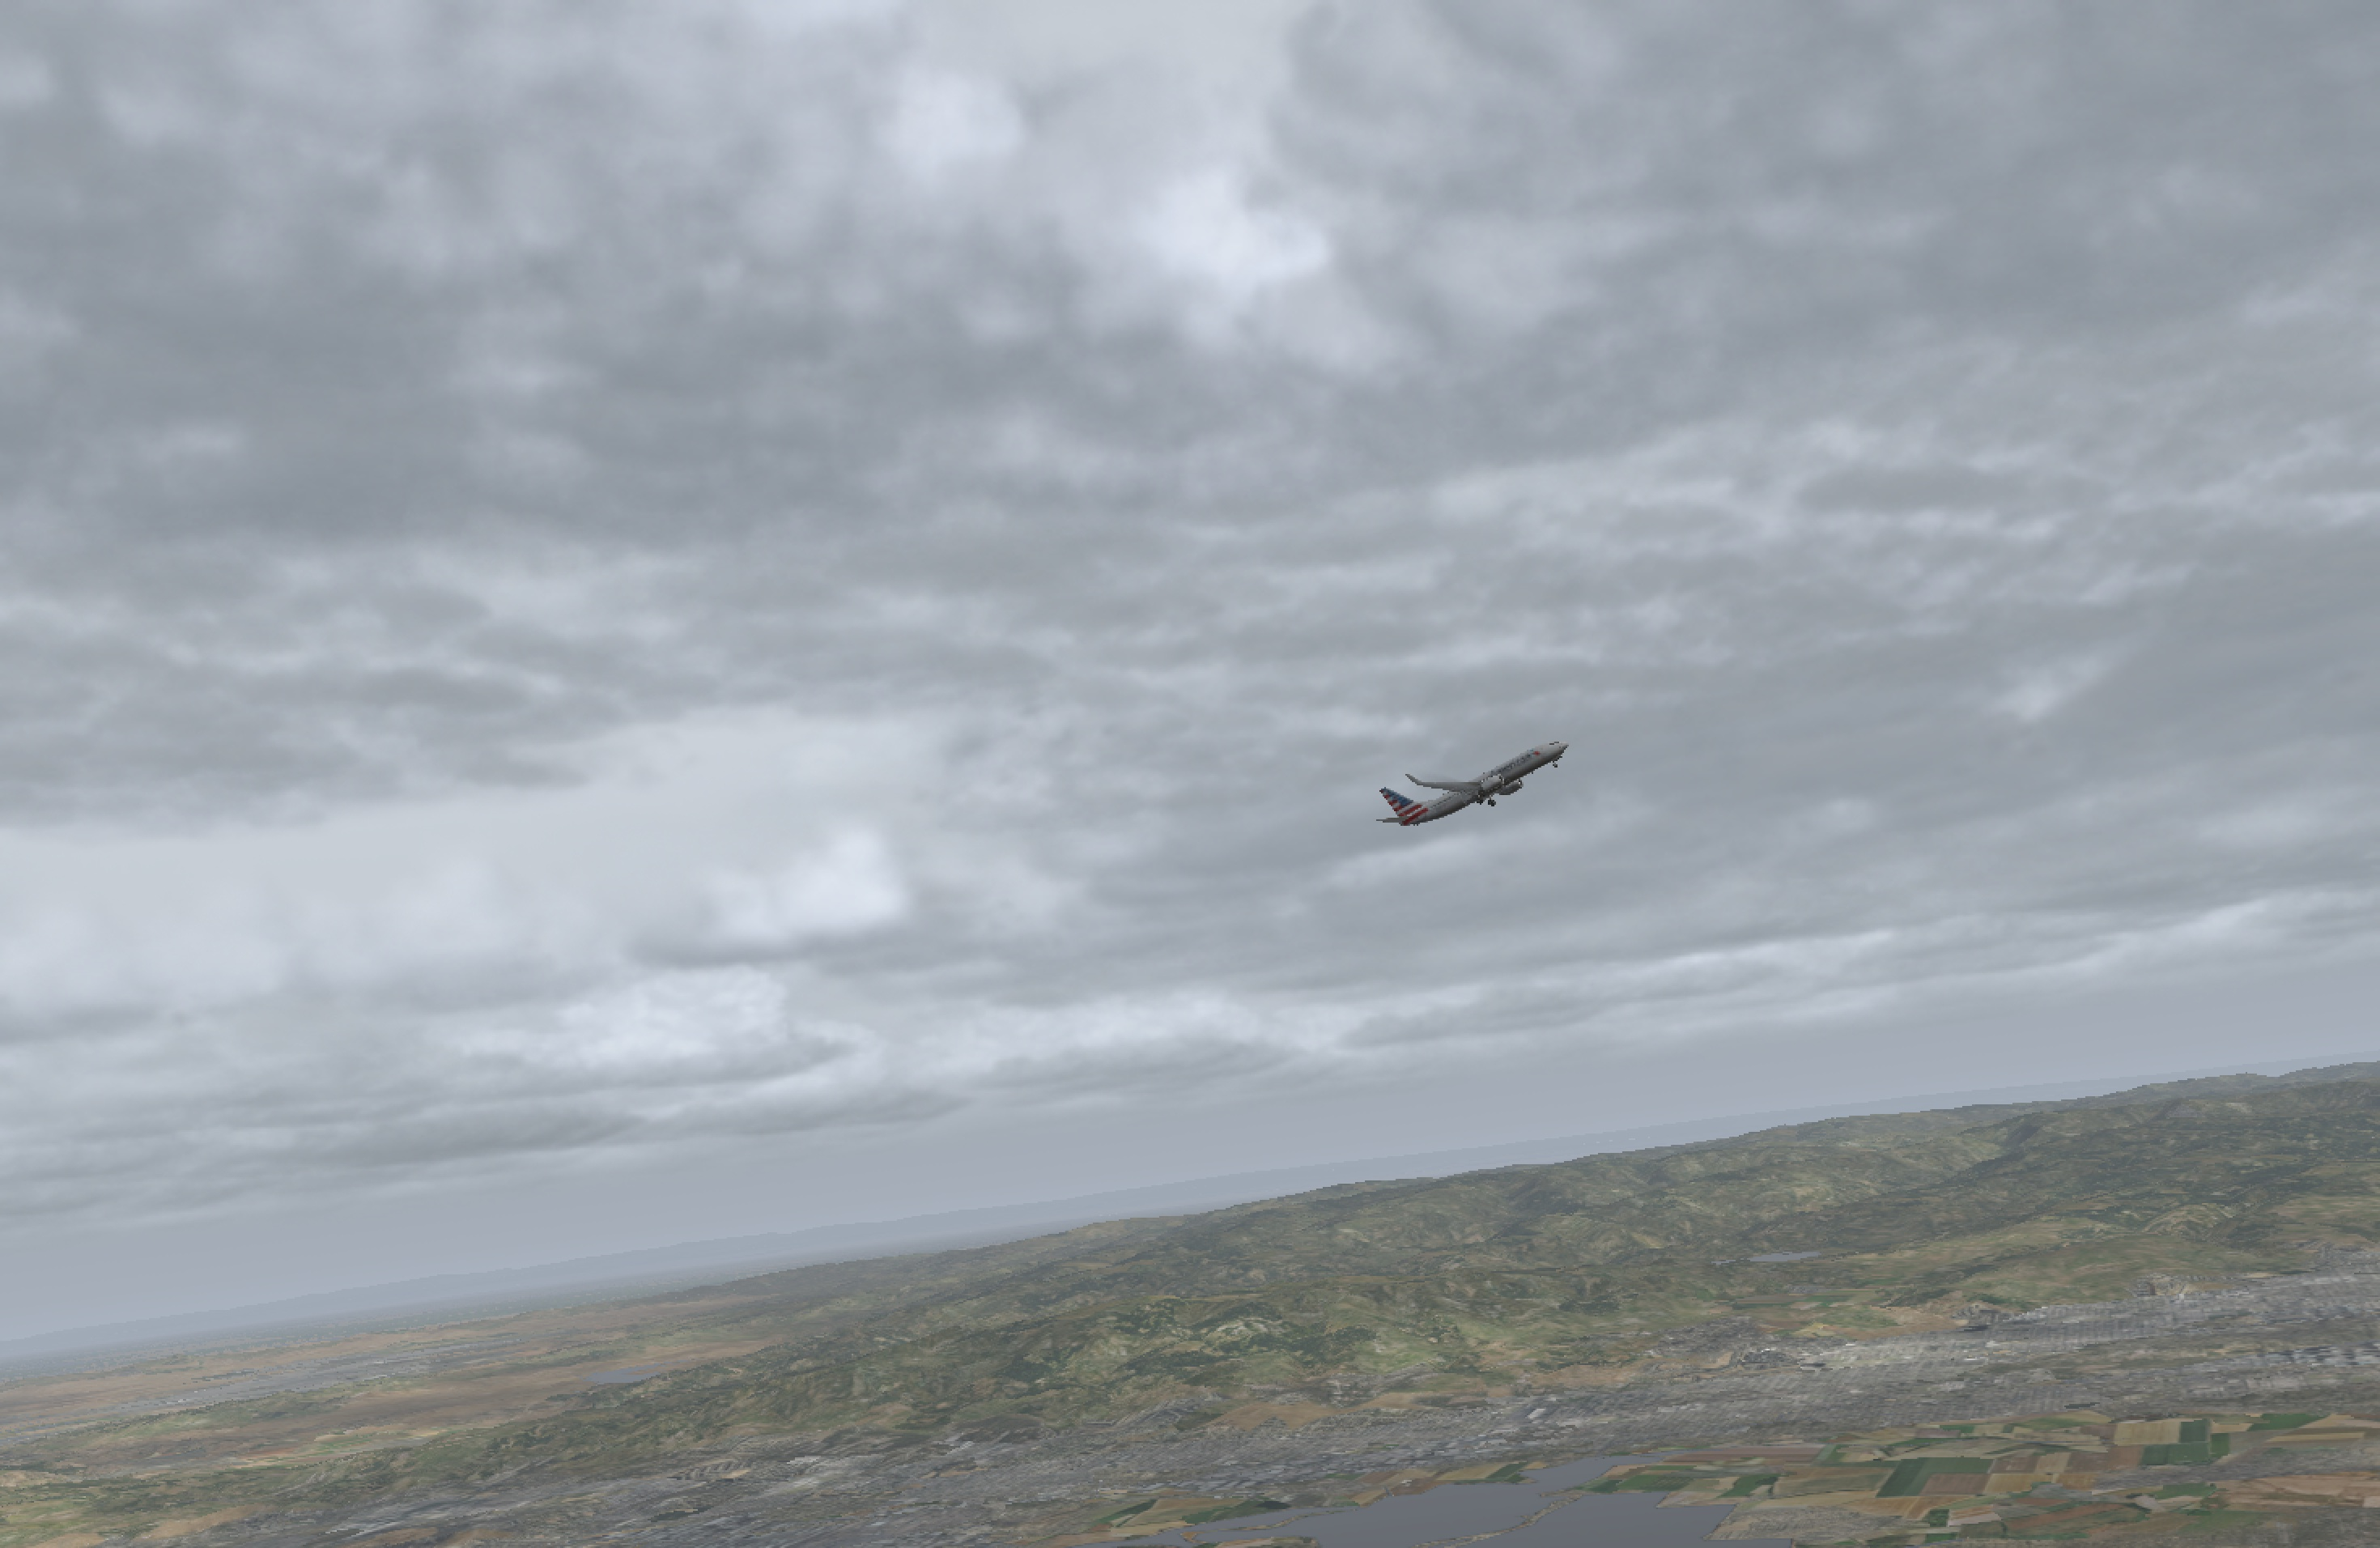aircraft: (1386, 750, 1587, 824)
